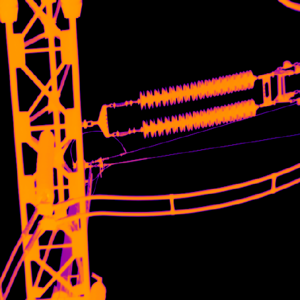insulator: (138, 68, 257, 108), (141, 98, 257, 138)
